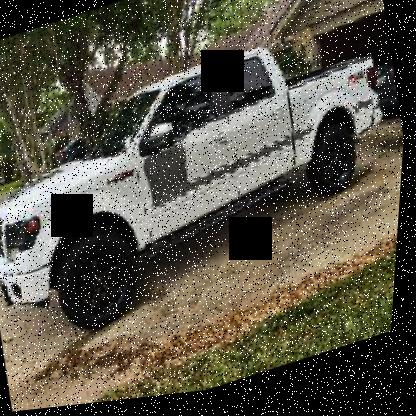not_emergency: (0, 12, 412, 363)
